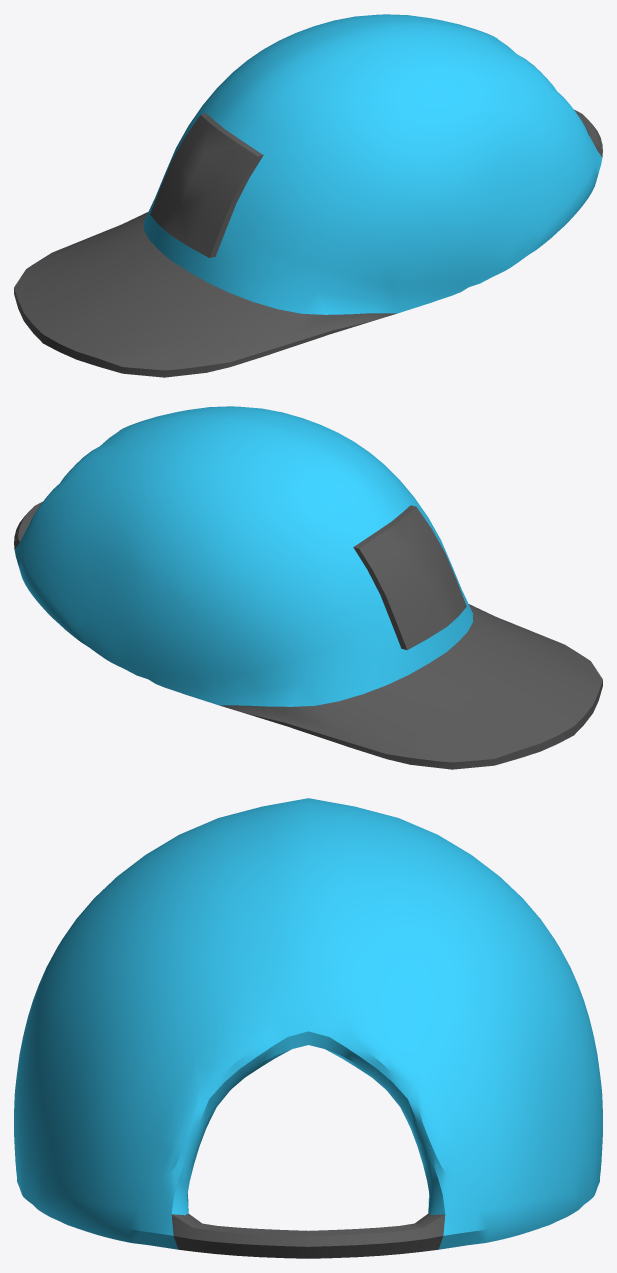
Rendered from GorraRadical.fbx.
3 views of the same model, one above another, from view 1: azimuth 30°, elevation 25°; view 2: azimuth 150°, elevation 25°; view 3: azimuth 270°, elevation 25° (orthographic). The views are drawn at different scales.
Parts seen in each view (by area): view 1: Gorra; view 2: Gorra; view 3: Gorra.
Part boxes in pixels (<box>): Gorra: <box>14,14,602,377</box>; Gorra: <box>14,406,602,769</box>; Gorra: <box>14,798,602,1258</box>.
Bounding box in the file's own units: 29.65 × 12.08 × 16.63.
